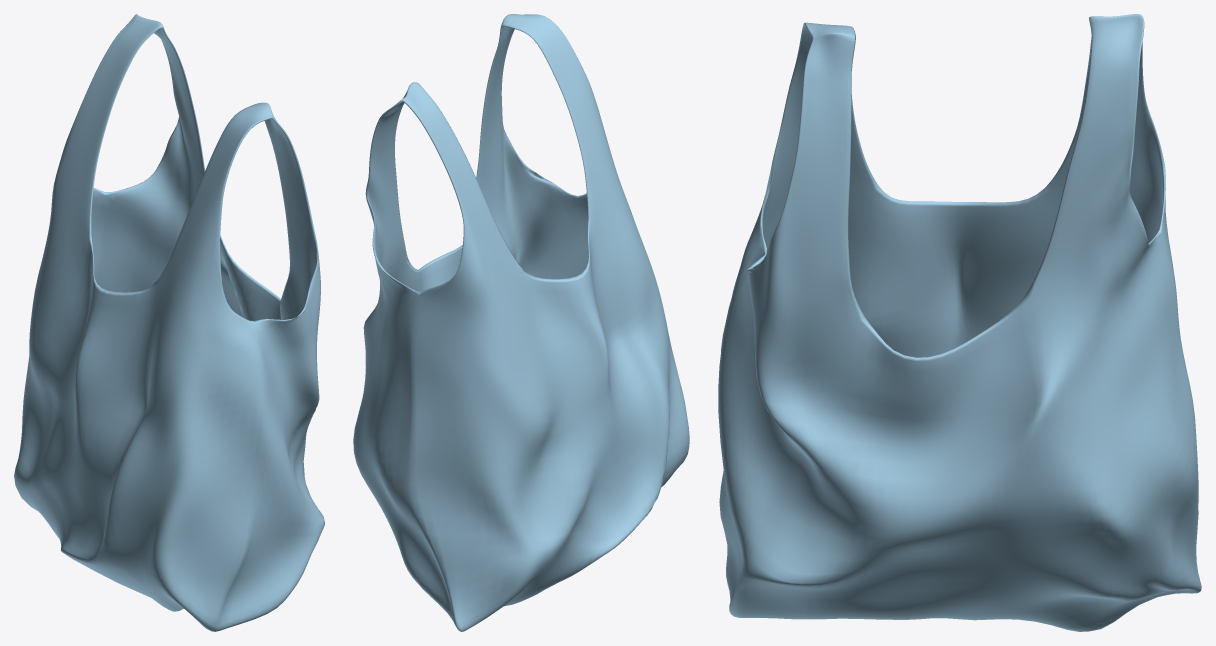
The picture shows the model from 3 angles, left to right: view 1: azimuth 30°, elevation 25°; view 2: azimuth 150°, elevation 25°; view 3: azimuth 270°, elevation 25°; orthographic projection. The views are drawn at different scales.
Visible parts, largest first — view 1: Cube.052; view 2: Cube.052; view 3: Cube.052.
Boxes of the visible parts, bbox=[...] form: Cube.052: bbox=[14, 14, 324, 631]; Cube.052: bbox=[353, 14, 689, 631]; Cube.052: bbox=[718, 14, 1201, 631].
Size of the model in its own units: 61.04 by 131 by 88.7.
